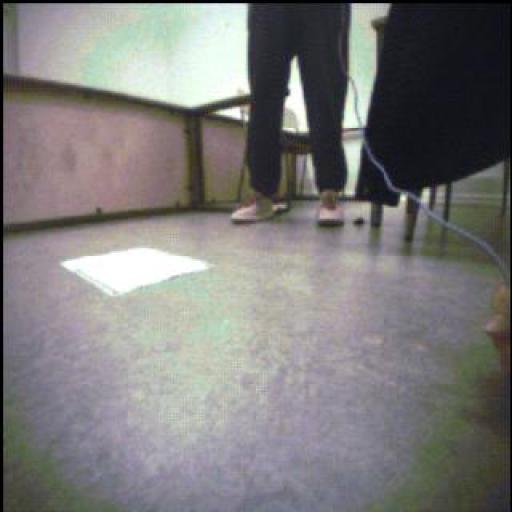Pad: (62, 249, 211, 297)
